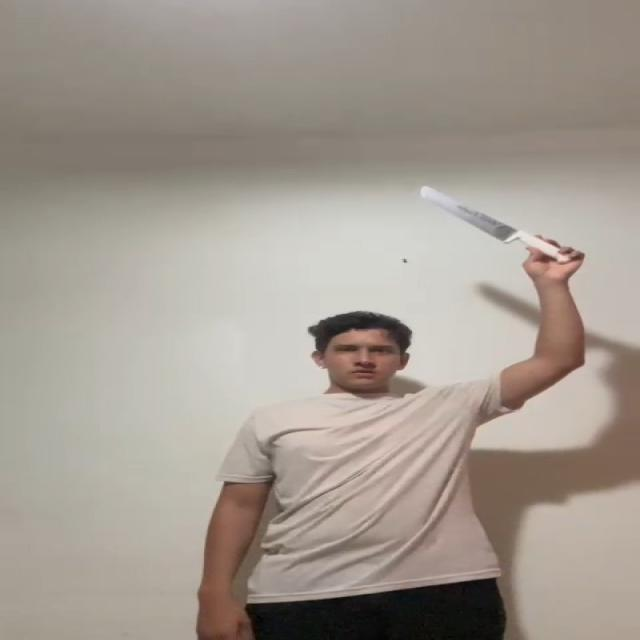knife: (422, 184, 511, 237)
